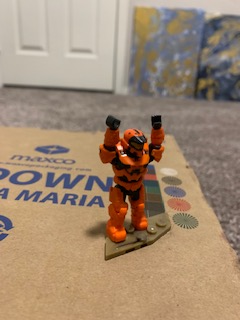spartan: (97, 113, 166, 246)
up: (97, 113, 166, 183)
